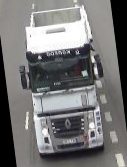truck: (20, 4, 105, 156)
